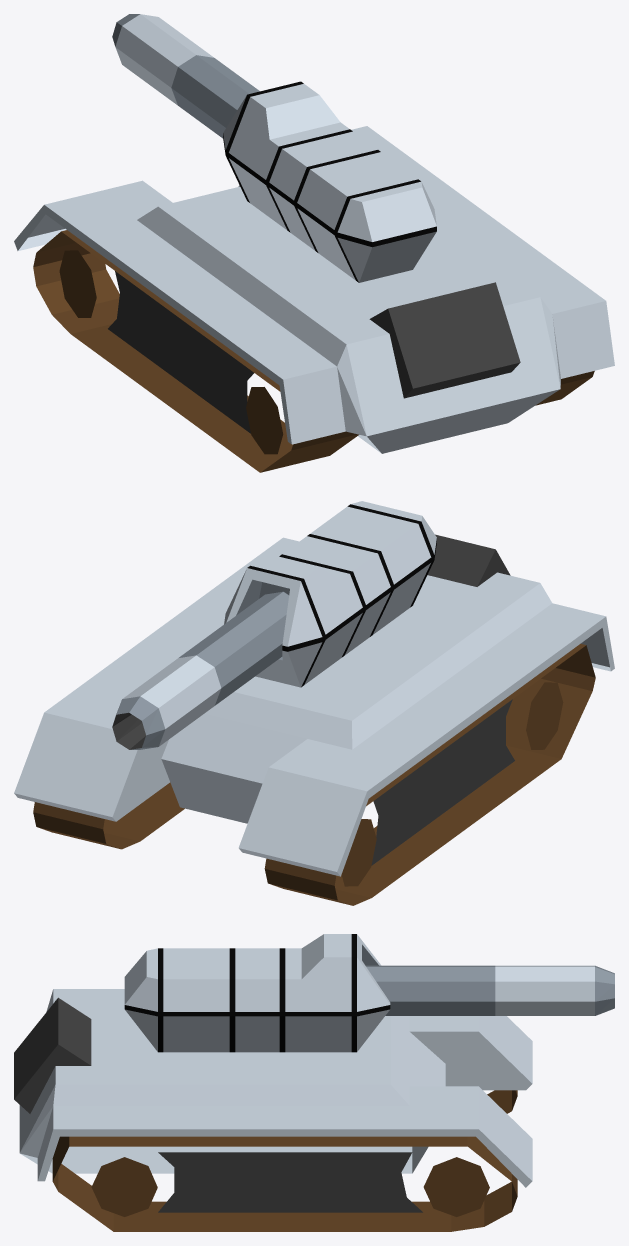
File: tanc.FBX
3 views of the same model, one above another, from view 1: azimuth 30°, elevation 25°; view 2: azimuth 150°, elevation 25°; view 3: azimuth 270°, elevation 25° (orthographic). The views are drawn at different scales.
Parts seen in each view (by area): view 1: VIFS002, VIFS005, VIFS003, VIFS001, VIFS008, VIFS009, VIFS004; view 2: VIFS002, VIFS001, VIFS005, VIFS003, VIFS008, VIFS009, VIFS004, VIFS007, VIFS006; view 3: VIFS002, VIFS005, VIFS001, VIFS003, VIFS008, VIFS009, VIFS004.
Part boxes in pixels (x1=…): VIFS002: x1=14, y1=126, x2=614, y2=453; VIFS005: x1=223, y1=84, x2=436, y2=282; VIFS003: x1=108, y1=271, x2=520, y2=433; VIFS001: x1=33, y1=230, x2=594, y2=472; VIFS008: x1=112, y1=14, x2=259, y2=138; VIFS009: x1=115, y1=14, x2=214, y2=105; VIFS004: x1=223, y1=81, x2=436, y2=282; VIFS002: x1=14, y1=537, x2=614, y2=876; VIFS001: x1=33, y1=643, x2=595, y2=905; VIFS005: x1=224, y1=501, x2=436, y2=687; VIFS003: x1=371, y1=534, x2=514, y2=865; VIFS008: x1=113, y1=591, x2=289, y2=749; VIFS009: x1=123, y1=655, x2=221, y2=746; VIFS004: x1=247, y1=504, x2=436, y2=687; VIFS007: x1=112, y1=712, x2=145, y2=749; VIFS006: x1=236, y1=579, x2=289, y2=660; VIFS002: x1=19, y1=989, x2=532, y2=1187; VIFS005: x1=124, y1=934, x2=390, y2=1052; VIFS001: x1=52, y1=1090, x2=517, y2=1231; VIFS003: x1=14, y1=997, x2=422, y2=1212; VIFS008: x1=366, y1=965, x2=614, y2=1015; VIFS009: x1=495, y1=965, x2=594, y2=1015; VIFS004: x1=124, y1=934, x2=390, y2=1052.
Size of the model in its own units: 1.2 by 0.88 by 2.17.
